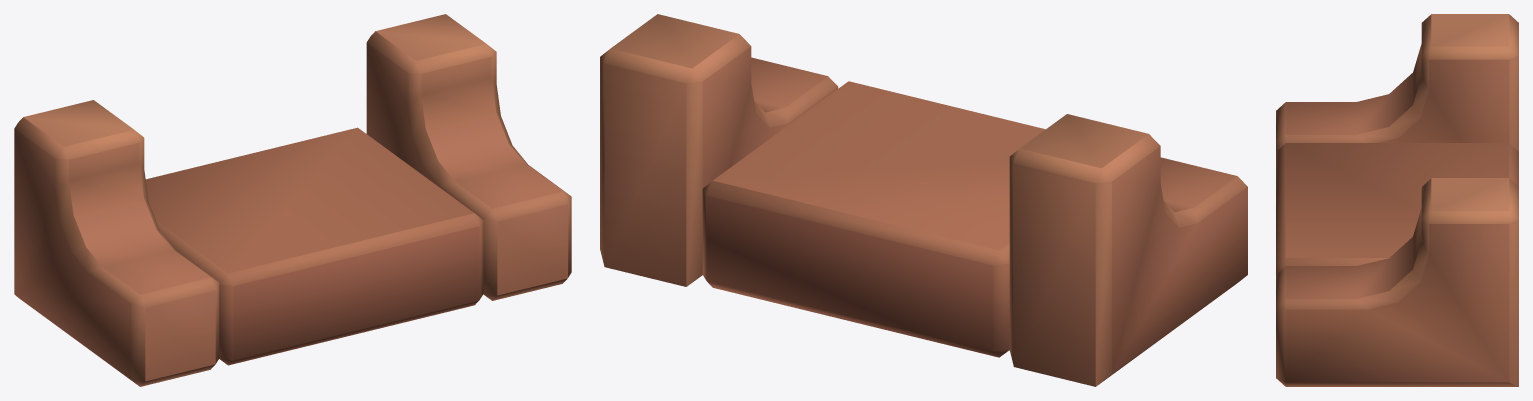
File: shelf-b-small.glb
3 views of the same model, side by side, from view 1: azimuth 30°, elevation 25°; view 2: azimuth 150°, elevation 25°; view 3: azimuth 270°, elevation 25° (orthographic). The views are drawn at different scales.
Visible parts, largest first — view 1: shelf_B_small; view 2: shelf_B_small; view 3: shelf_B_small.
Boxes of the visible parts, x1,y1,x2,y2 form: shelf_B_small: (14,14,571,386); shelf_B_small: (600,14,1247,386); shelf_B_small: (1276,14,1518,386).
Bounding box in the file's own units: 1 × 0.3999 × 0.5001.
1 material, 1 textured.
